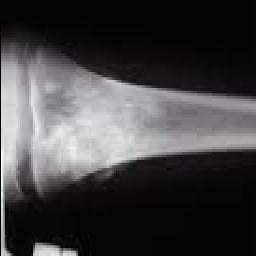cancer: (30, 64, 165, 180)
